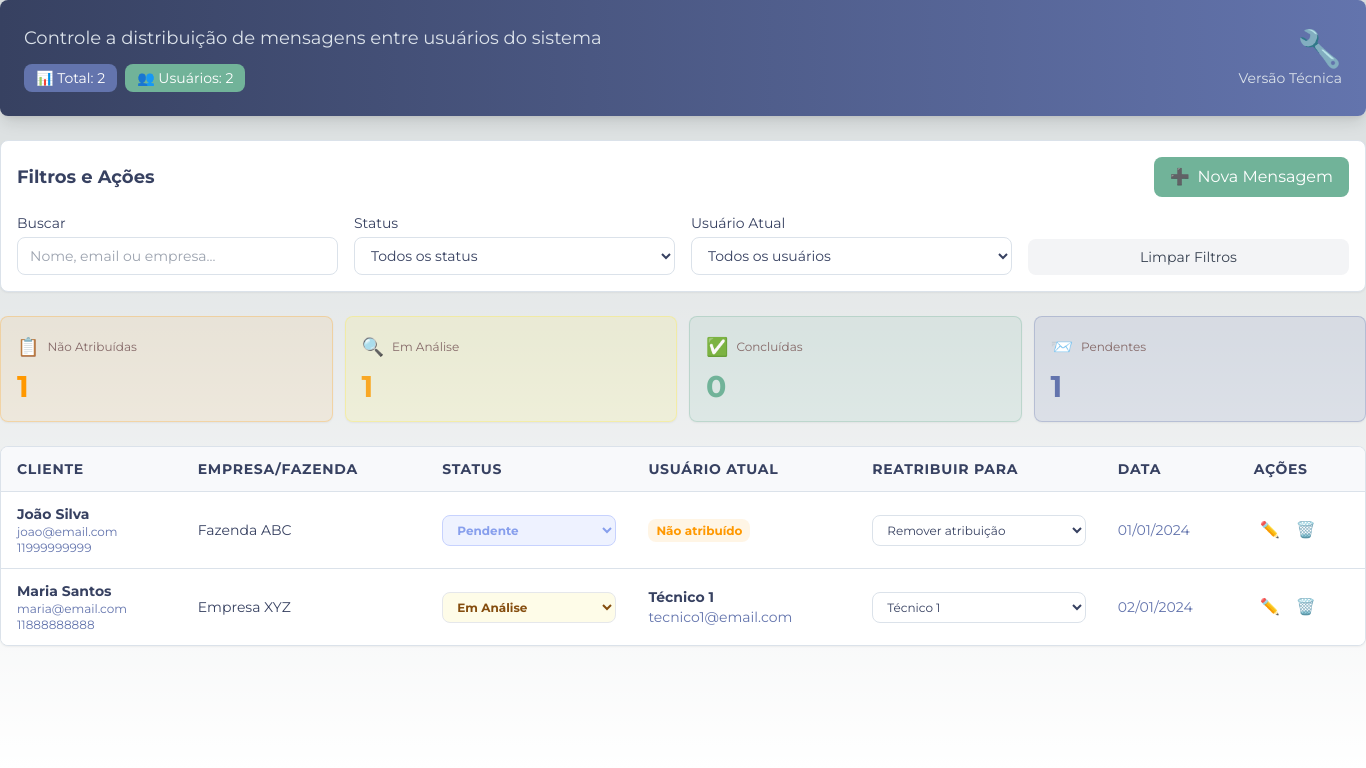
Scenario: MensagensTecnicasManager › deve abrir modal para criar nova mensagem
Click the text "Nova Mensagem": click(1265, 177) [1198,165,1333,189]
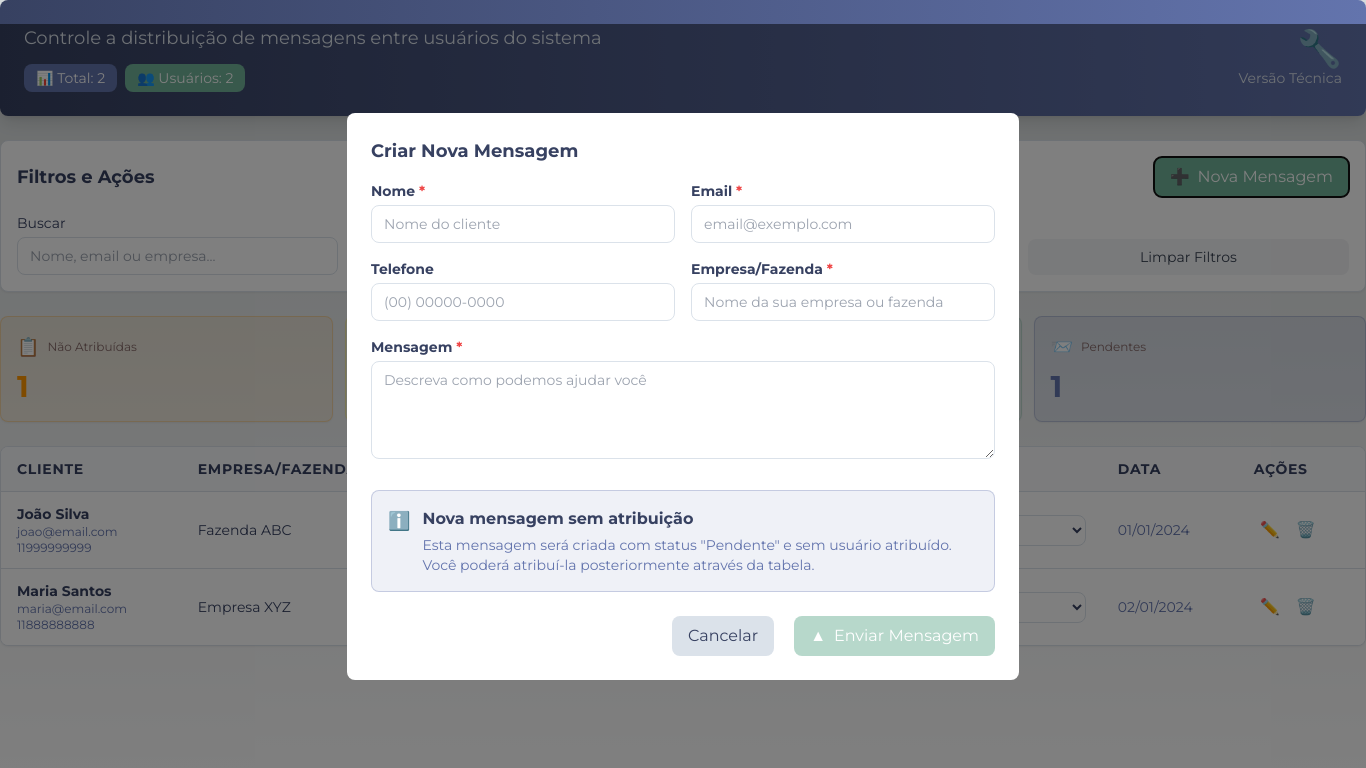
Check: the heading "Criar Nova Mensagem" is shown, box [371,140,578,162]
Check: the field with placeholder "Nome do cliente" is shown, box [371,204,675,242]
Check: the field with placeholder "email@exemplo.com" is shown, box [691,204,995,242]
